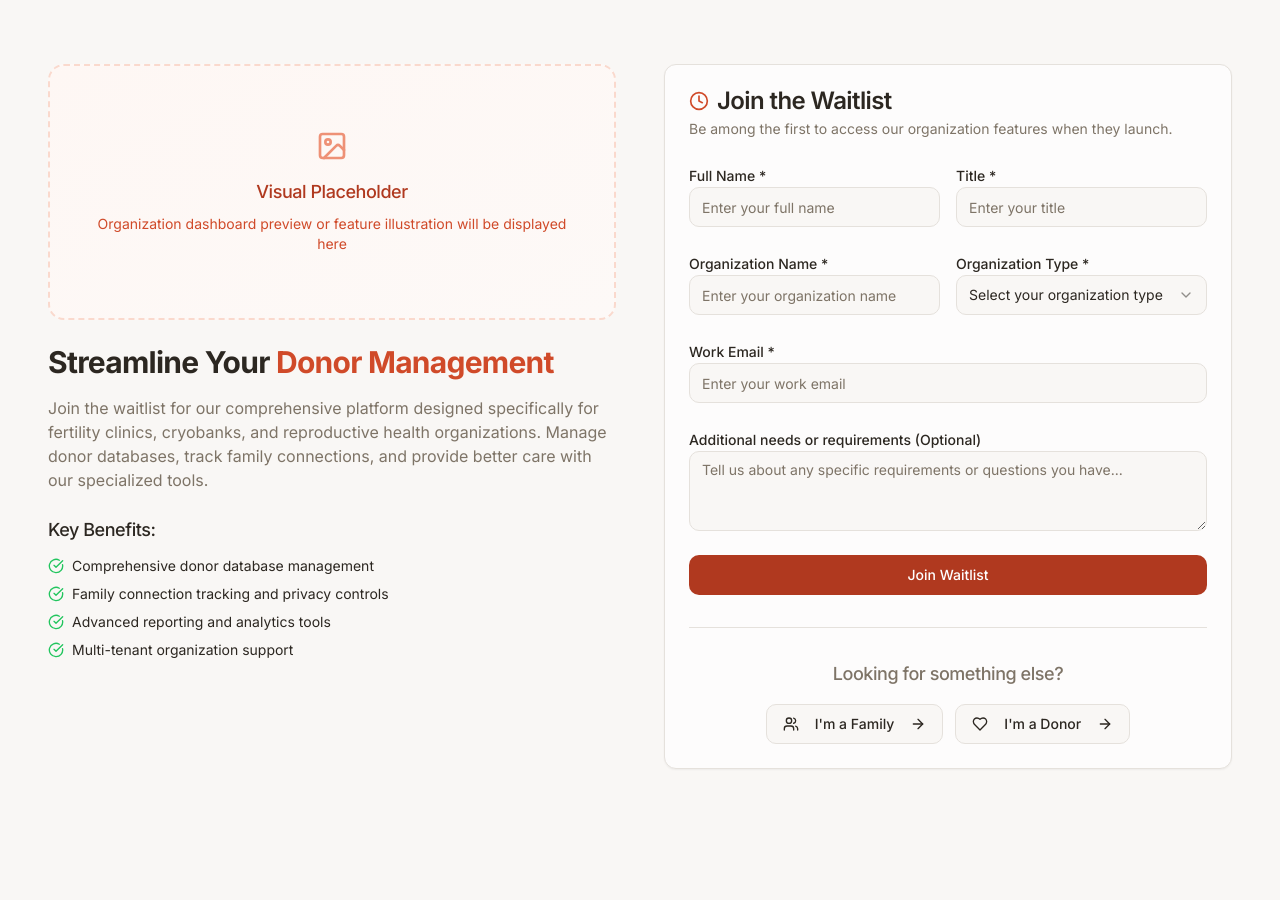
it: GetStarted Page › shows organization type dropdown options
# Click on the organization type dropdown to open it
Click the dropdown "Select your organization type": (1082, 295) 956,275 -> 1207,315
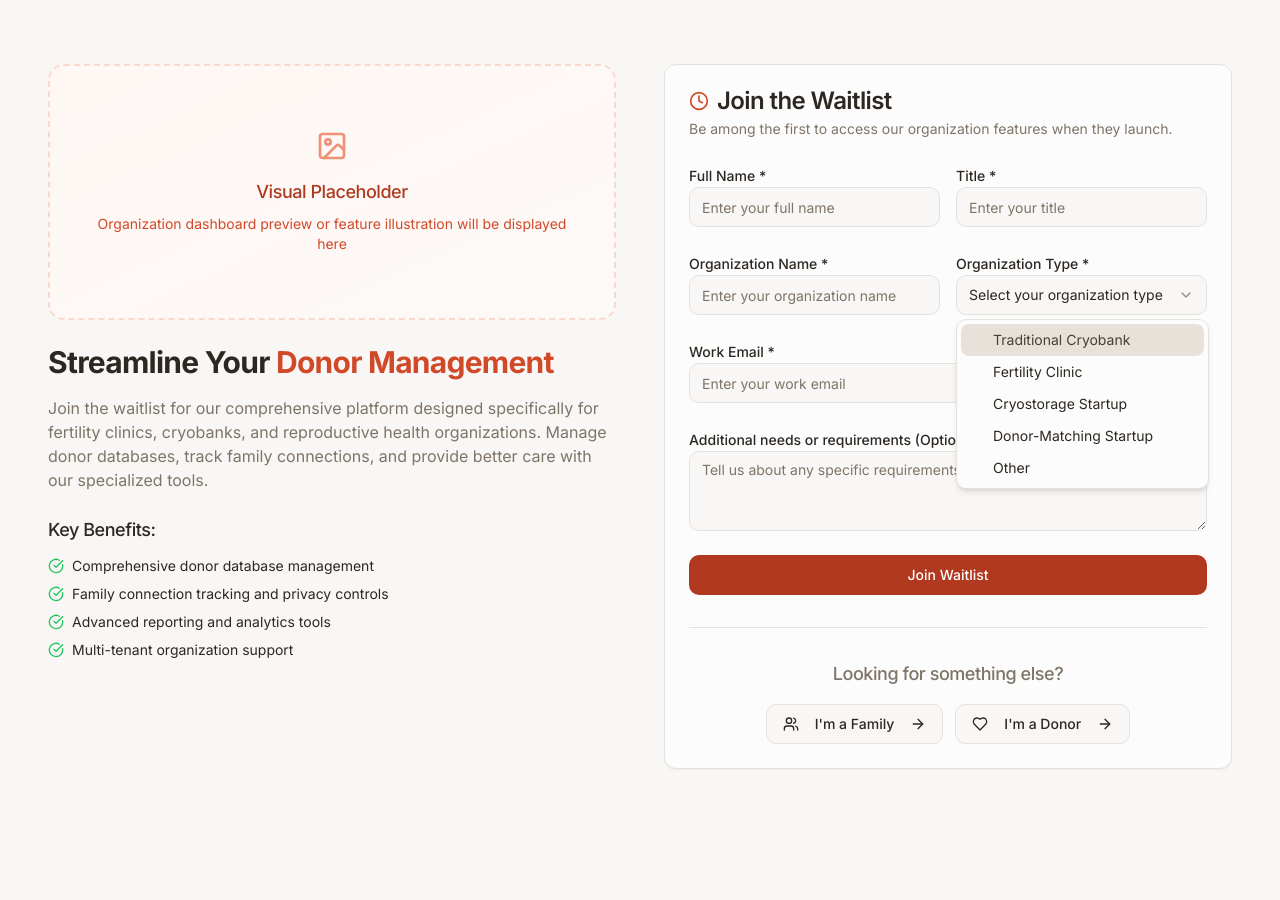
Now the text "Traditional Cryobank" is shown 2 times
Now the text "Cryostorage Startup" is shown 2 times
Now the text "Donor-Matching Startup" is shown 2 times
